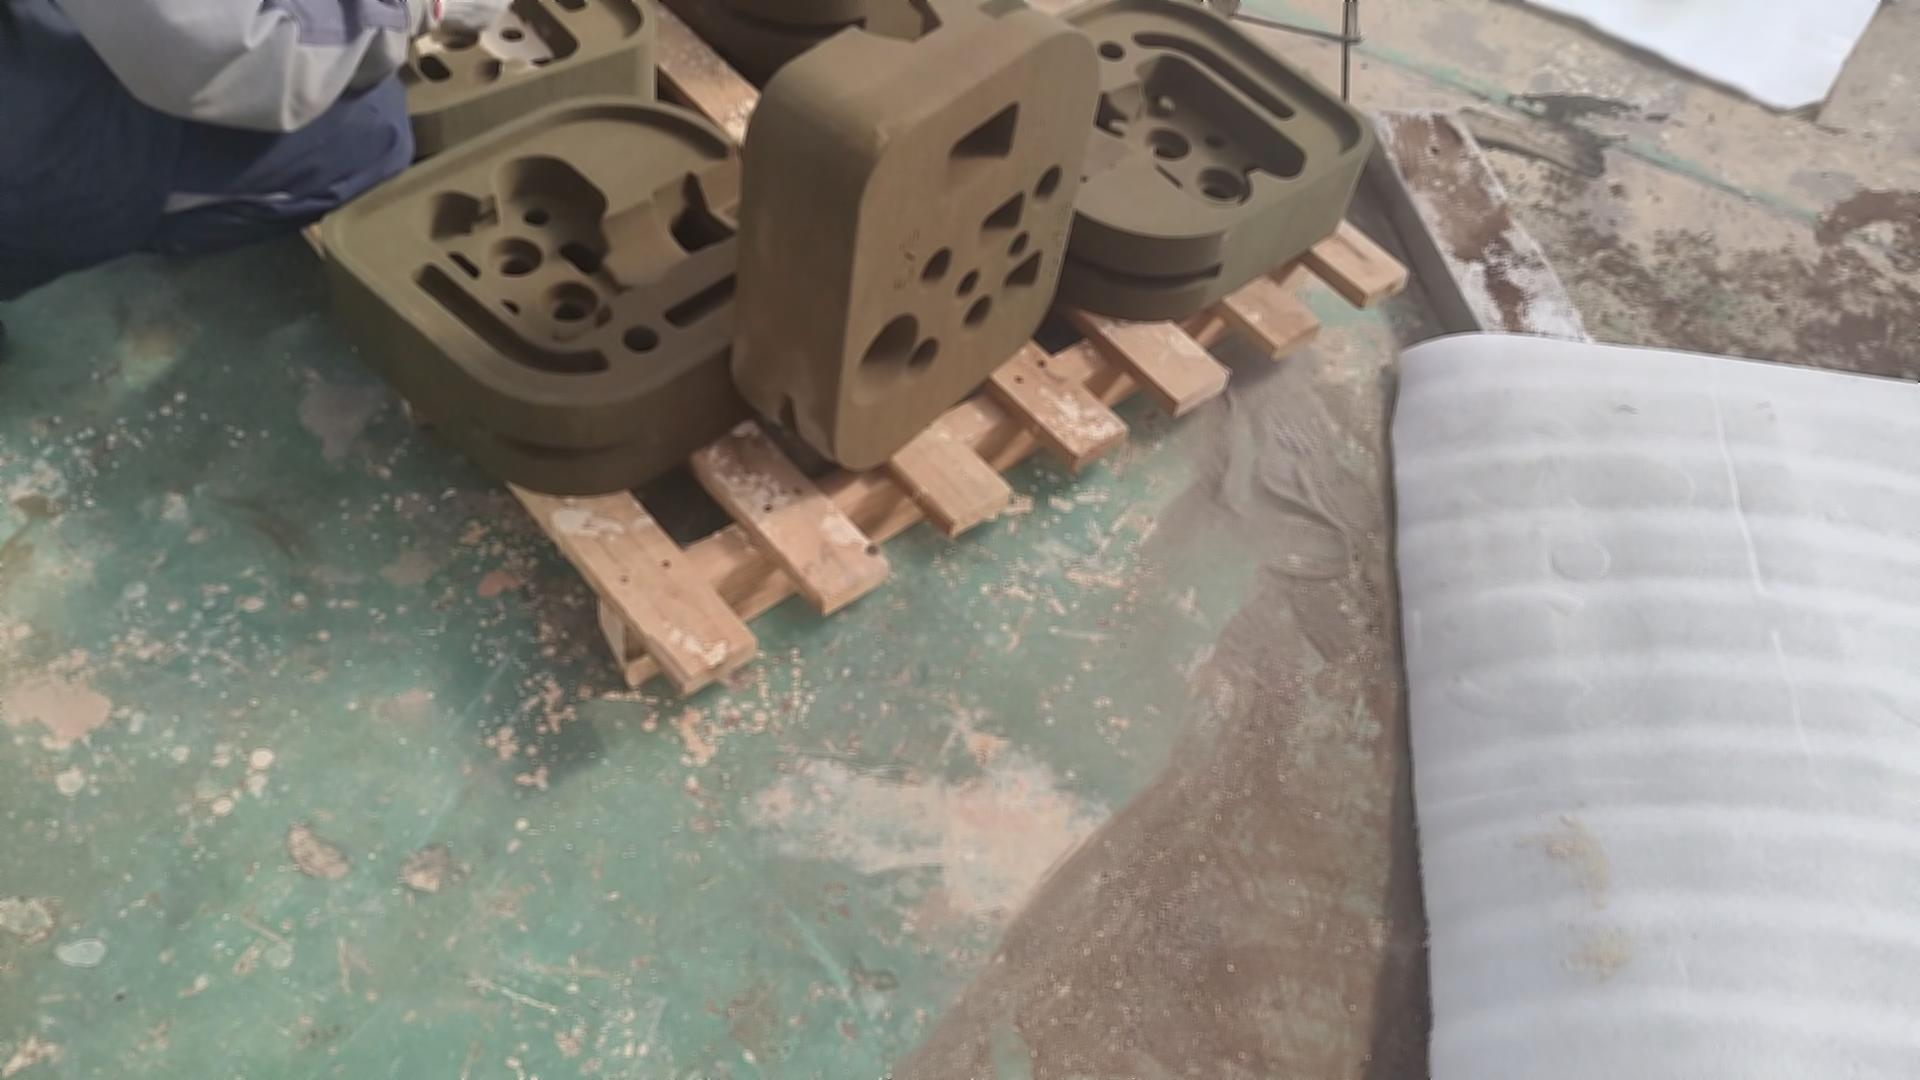pouring hole: (849, 313, 920, 405)
